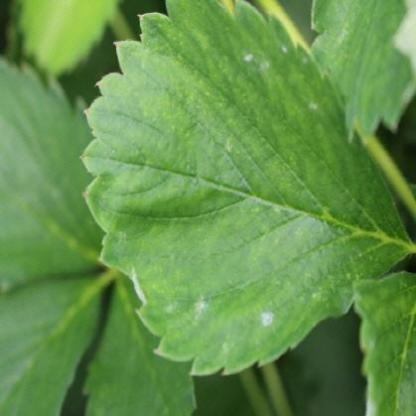Strawberry_Powdery_Mildew_Leaf: (79, 0, 415, 377)
